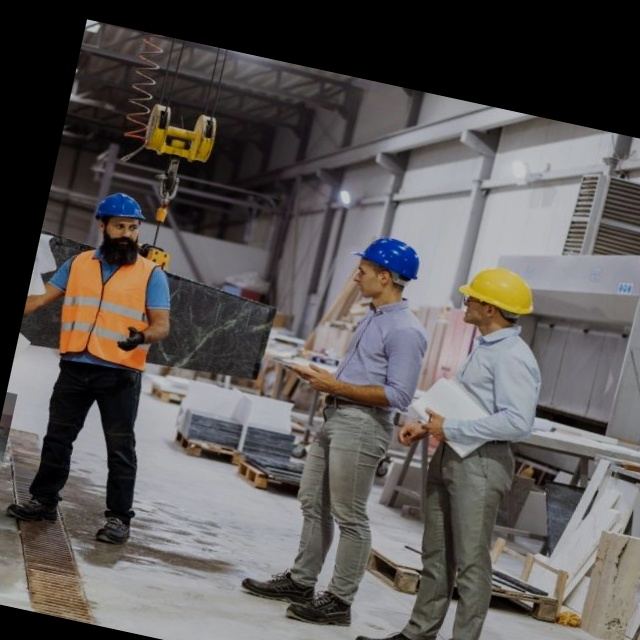Con_Casco: (449, 260, 538, 339), (342, 231, 428, 309), (85, 188, 148, 264)
Con_Chaleco: (49, 240, 166, 377)
Sin_Chaleco: (436, 327, 550, 454), (321, 298, 434, 420)
